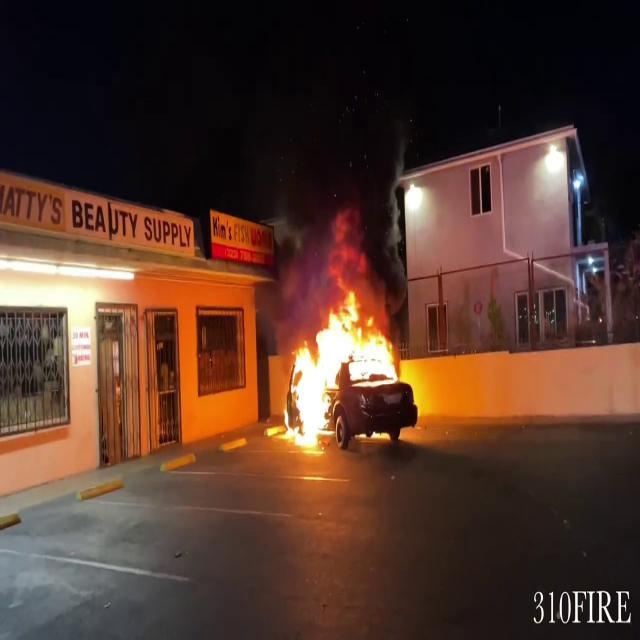Fire: (280, 286, 414, 447)
